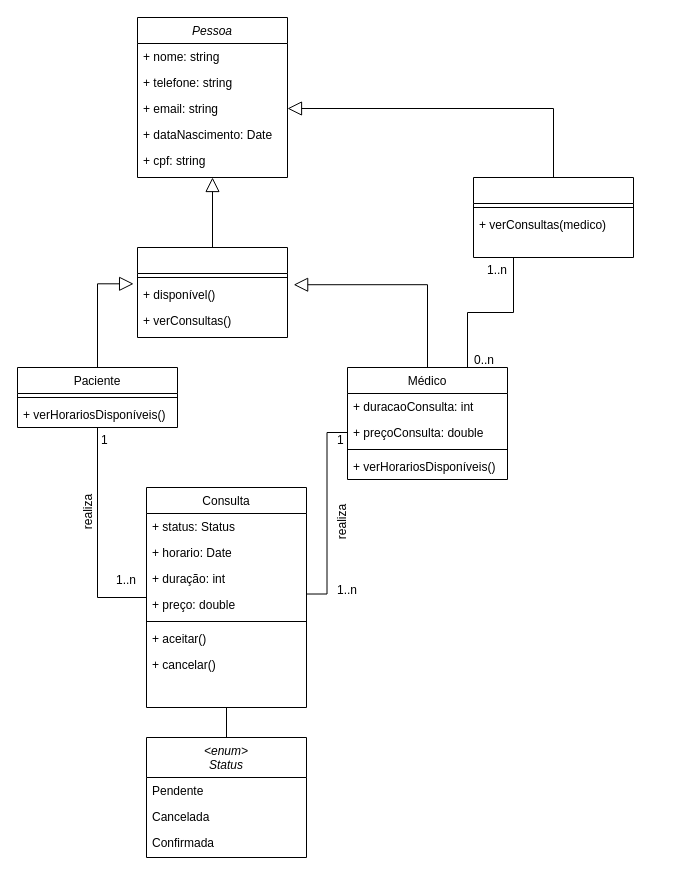
The diagram is 696 pixels wide and 874 high, and some of its shapes have lost their labels. The box of each missing label's shape, as (x1, y1, x2, y2) in pixels:
PessoaAgendável: (136, 246, 288, 338)
Secretária: (472, 176, 634, 258)
